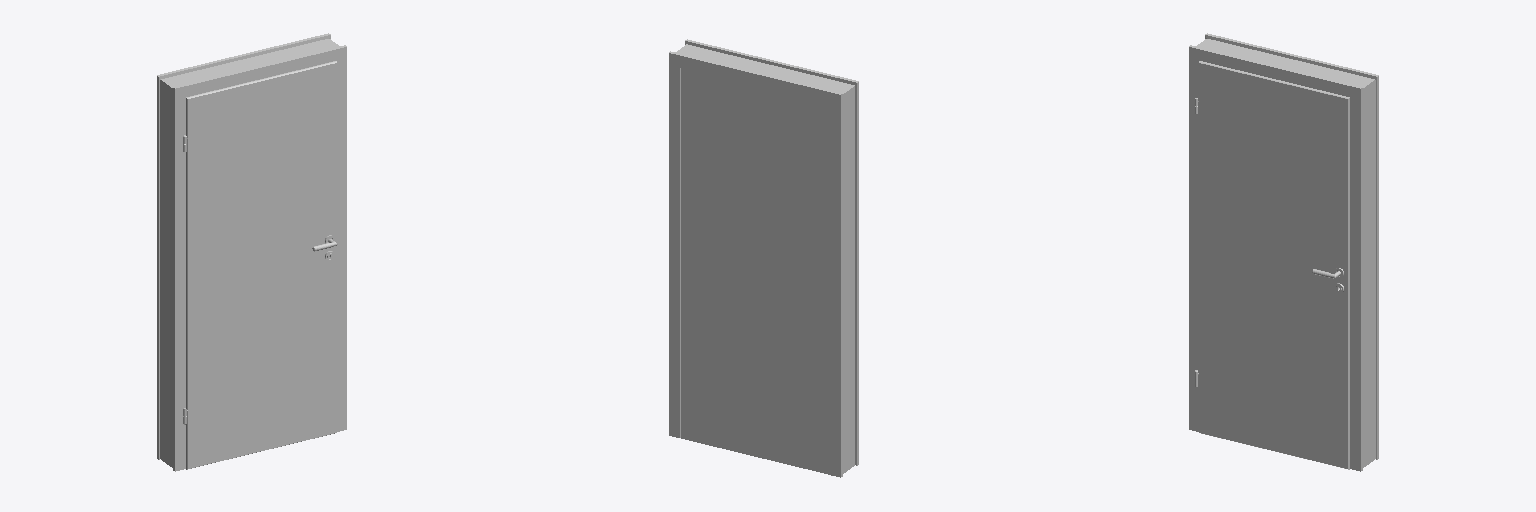
File: door.obj
The picture shows the model from 3 angles: view 1: azimuth 30°, elevation 25°; view 2: azimuth 150°, elevation 25°; view 3: azimuth 330°, elevation 25°; orthographic projection.
Parts seen in each view (by area): view 1: door, frame; view 2: Door_Plane, frame; view 3: door, frame.
Part boxes in pixels (x1,y1,x2,y2): door: (183, 61, 336, 469); frame: (157, 33, 346, 471); Door_Plane: (681, 68, 828, 474); frame: (669, 39, 858, 477); door: (1195, 61, 1349, 469); frame: (1189, 33, 1378, 471).
Size of the model in its own units: 0.0485 by 0.1033 by 0.013.